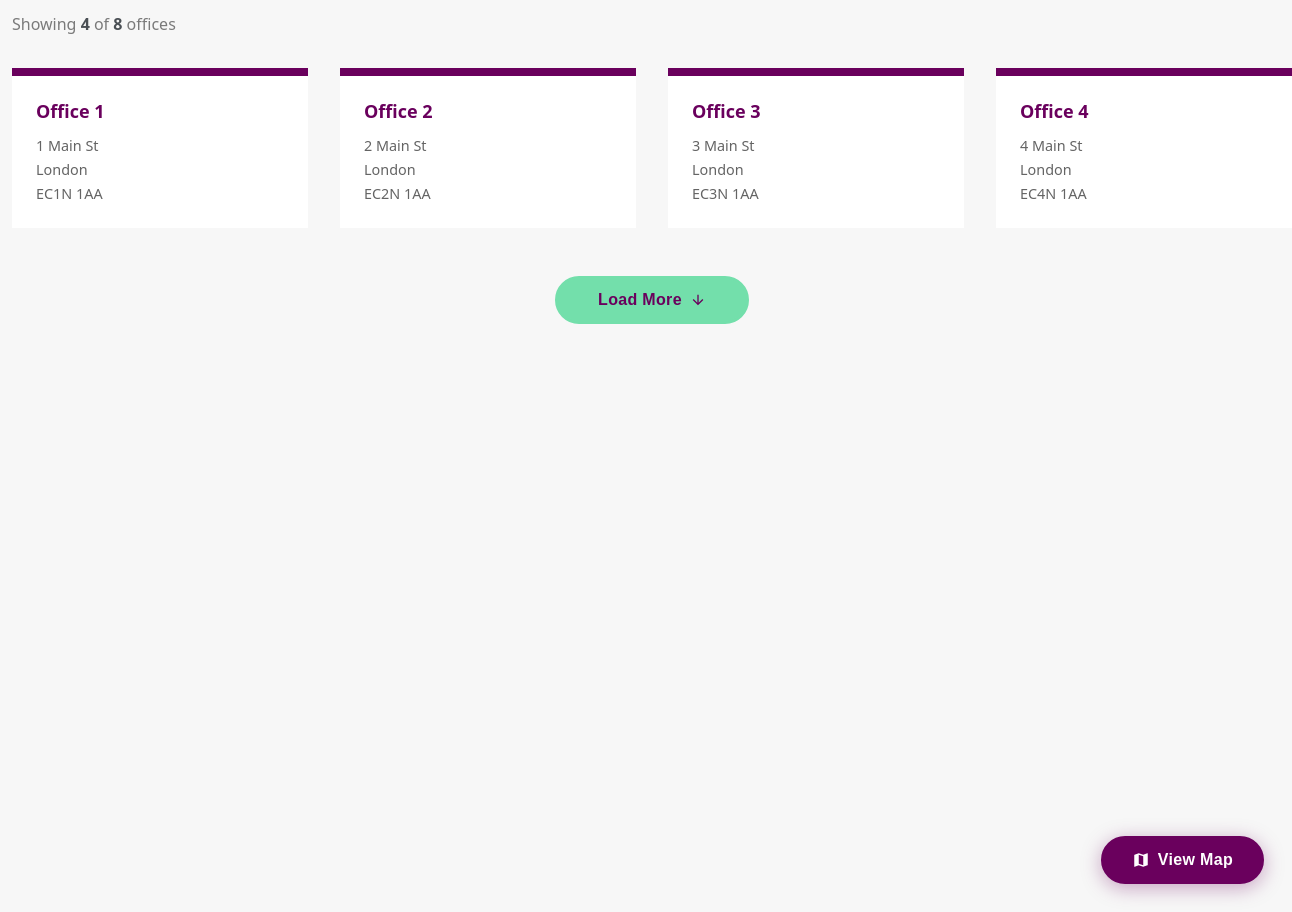
Test: LocationFeed › loads the next page when Load More is clicked
Click the button "Load More". click: [652, 300]
box: top-left (555, 276), bottom-right (749, 324)
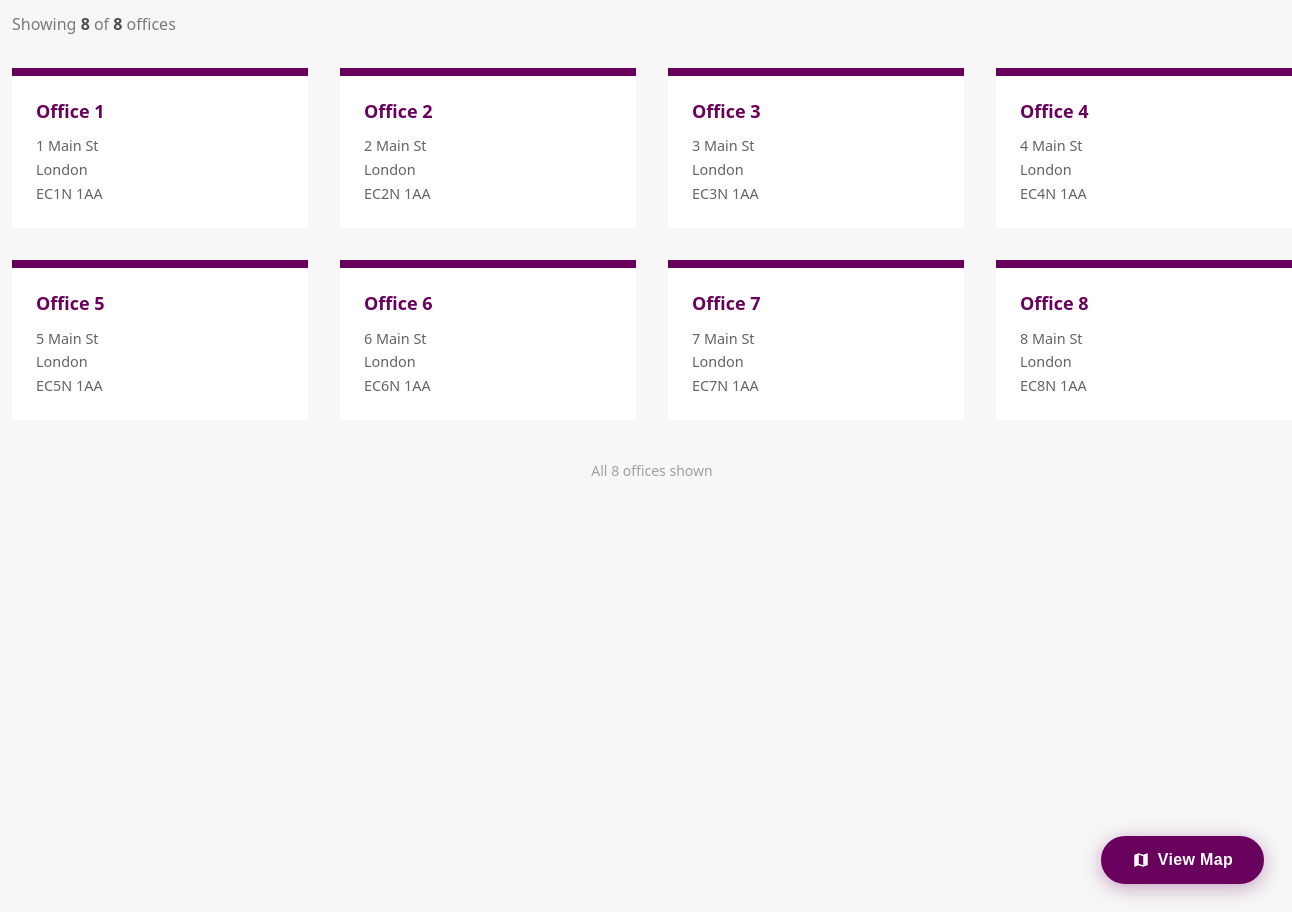
Expected: the heading "Office 5" is shown, top-left (36, 291), bottom-right (105, 315)
Expected: the heading "Office 8" is shown, top-left (1020, 291), bottom-right (1089, 315)
